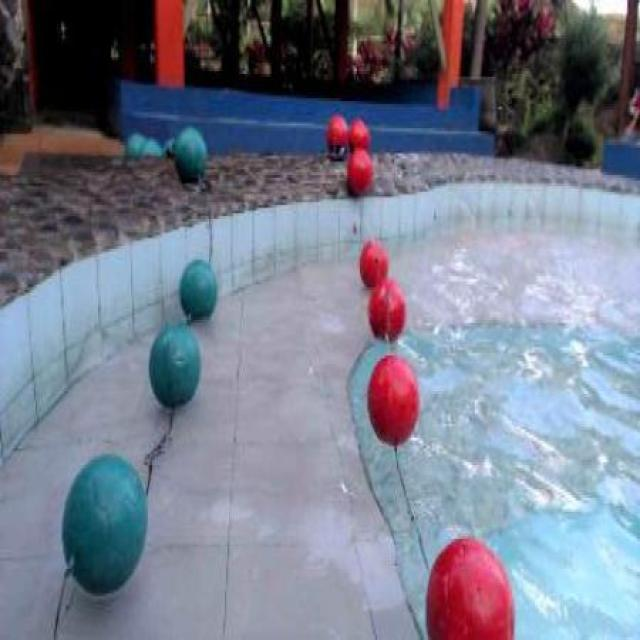buoy: (60, 448, 148, 596), (424, 533, 515, 637), (367, 354, 421, 445), (147, 318, 200, 409), (367, 278, 405, 341), (178, 256, 216, 319), (173, 125, 205, 181), (358, 238, 388, 282), (346, 149, 374, 195), (346, 114, 371, 153), (327, 111, 347, 156)
